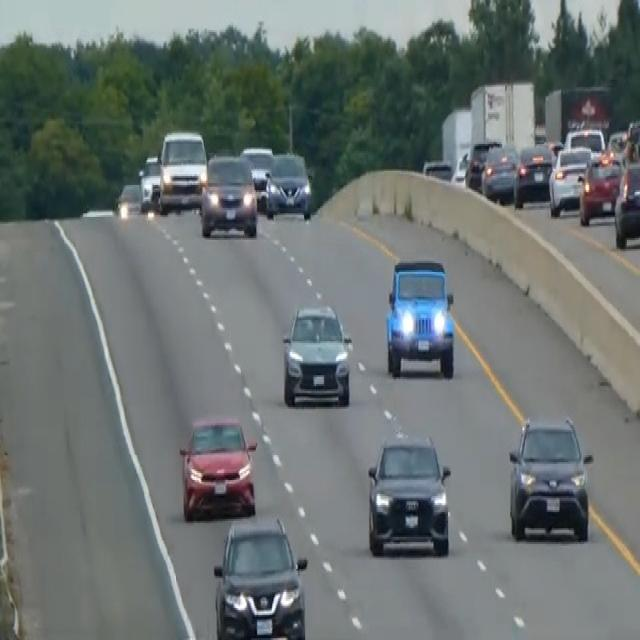car: (212, 516, 308, 638), (507, 412, 593, 542), (366, 432, 451, 556), (178, 411, 258, 519), (281, 301, 352, 407), (199, 151, 258, 238), (578, 151, 623, 226), (264, 150, 312, 220), (547, 144, 593, 215), (512, 140, 554, 208), (613, 158, 639, 249), (480, 142, 518, 203), (239, 144, 273, 206), (464, 139, 500, 190), (137, 153, 161, 210), (563, 124, 605, 154), (114, 181, 142, 219), (421, 156, 453, 182)
jeep: (383, 254, 457, 380)
